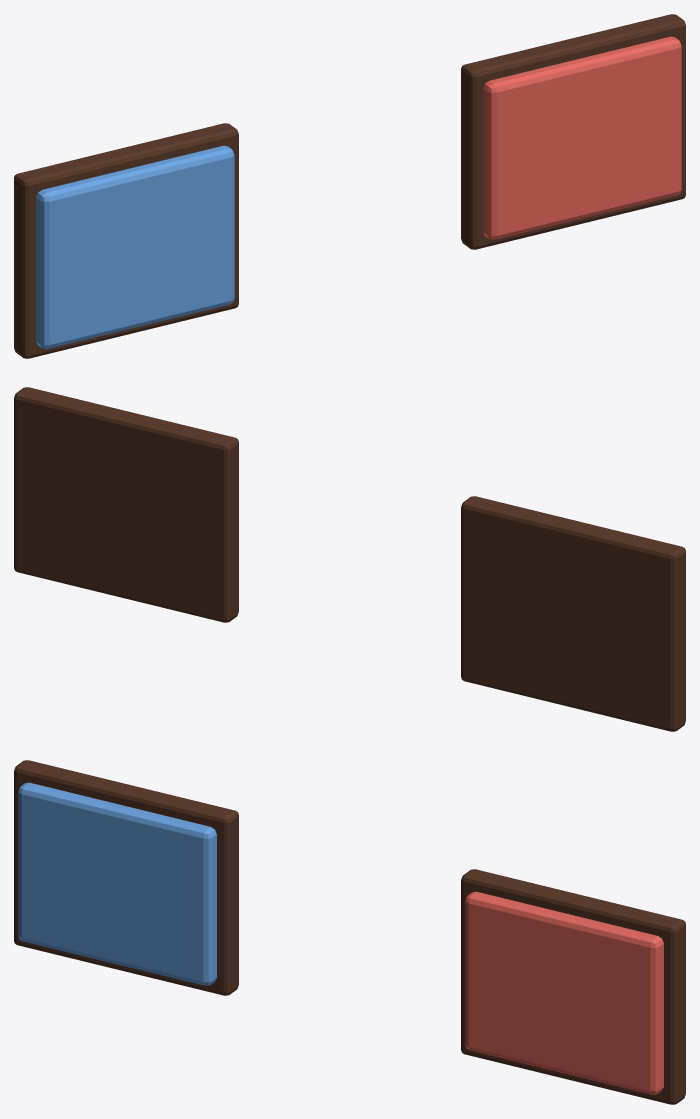
File: env-tile-a.glb
The picture shows the model from 3 angles, top to bottom: view 1: azimuth 30°, elevation 25°; view 2: azimuth 150°, elevation 25°; view 3: azimuth 330°, elevation 25°; orthographic projection.
Parts seen in each view (by area): view 1: VIS_tile_seize, VIS_tile_reform, VIS_tile_seize_frame, VIS_tile_reform_frame; view 2: VIS_tile_reform_frame, VIS_tile_seize_frame; view 3: VIS_tile_reform, VIS_tile_seize, VIS_tile_reform_frame, VIS_tile_seize_frame.
Part boxes in pixels (box(x1,y1,x2,y2)): VIS_tile_seize: box(483, 36, 681, 239); VIS_tile_reform: box(36, 145, 234, 348); VIS_tile_seize_frame: box(461, 14, 685, 249); VIS_tile_reform_frame: box(14, 123, 238, 358); VIS_tile_reform_frame: box(461, 496, 685, 731); VIS_tile_seize_frame: box(14, 387, 238, 622); VIS_tile_reform: box(18, 782, 216, 985); VIS_tile_seize: box(465, 891, 663, 1094); VIS_tile_reform_frame: box(14, 760, 238, 995); VIS_tile_seize_frame: box(461, 869, 685, 1104).
Bounding box in the file's own units: 0.89 × 0.23 × 0.0475.
